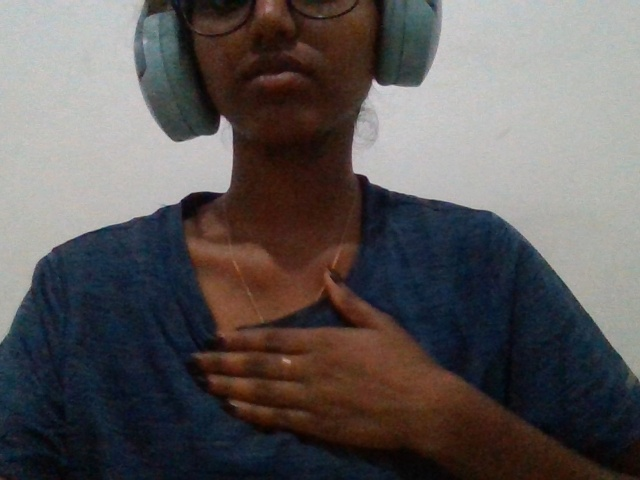Please: (163, 251, 492, 480)
